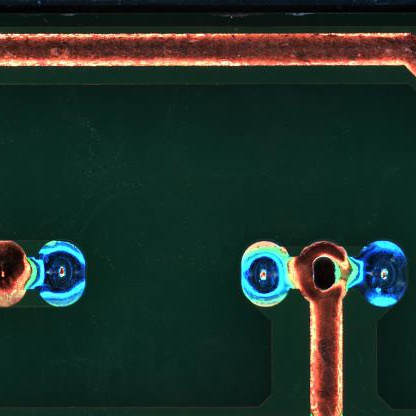spot: (35, 239, 88, 309), (240, 240, 291, 311), (360, 239, 408, 311)
